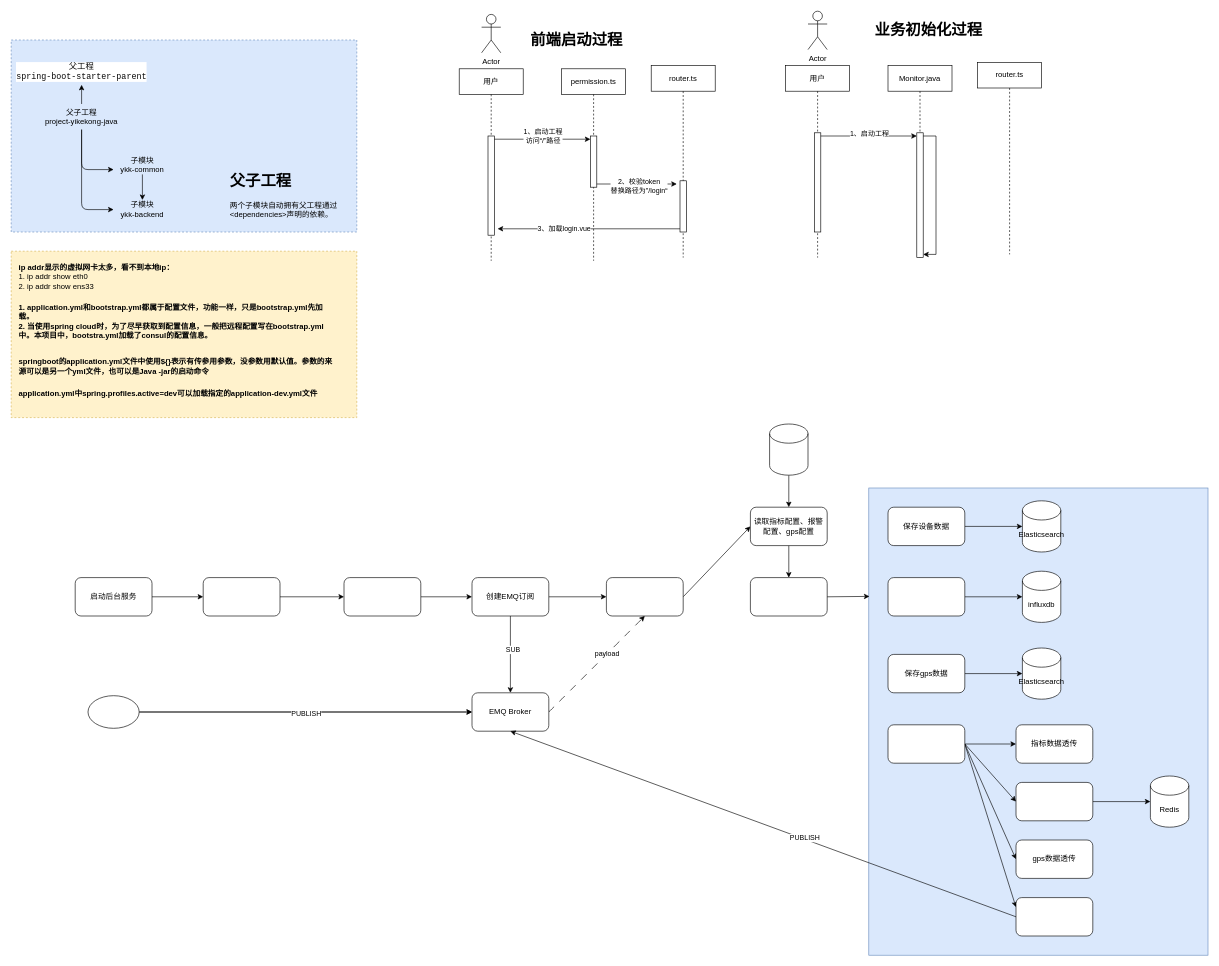
Some shapes in this 1219 by 966 pixel diagram are drawn without their labels. Here are the shapes that lost their labels. From the top down, the box of each, then its label:
(769, 423, 808, 475): mysql
(203, 577, 280, 616): 执行Monitor.java
(343, 577, 421, 616): 创建EMQ连接
(606, 577, 683, 616): 指定接收到消息的回调方法
(750, 577, 827, 616): 解析数据payload
(887, 577, 965, 616): 保存指标数据
(87, 695, 139, 728): Equip
(887, 724, 965, 763): 数据透传
(1015, 782, 1093, 821): 报警数据透传
(1015, 897, 1093, 936): 指标数据前端推送
